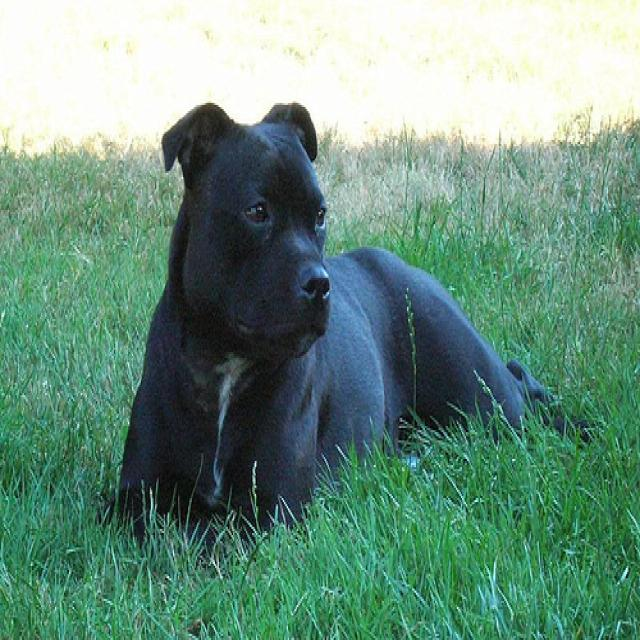dog-staffordshire_bull_terrier: (114, 84, 588, 537)
